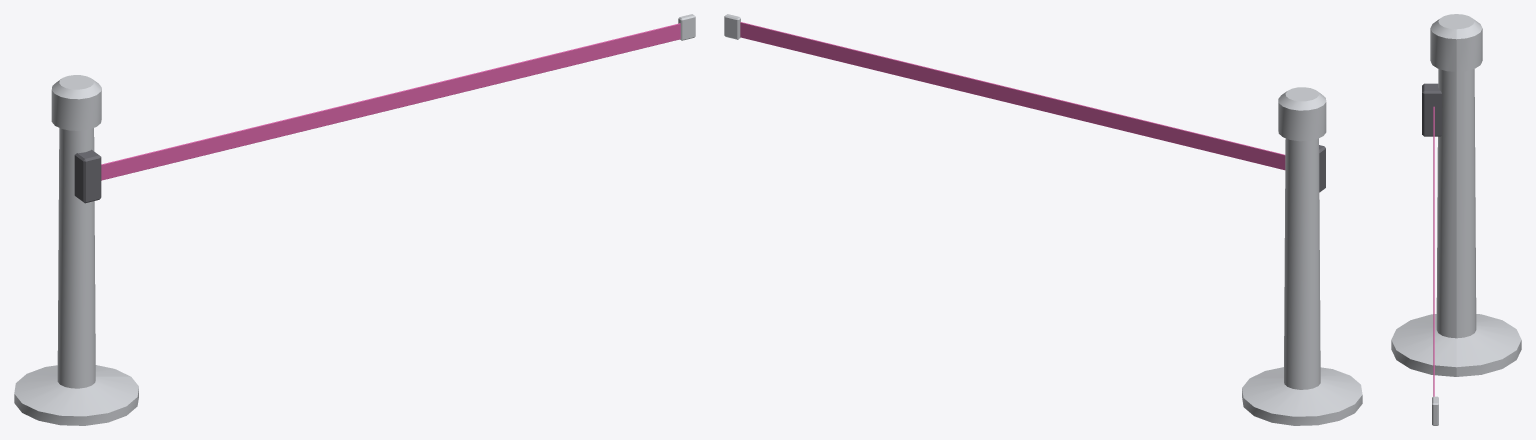
Rendered from nightclub-and-dj-booth-queue-barrier-post-35e813c3__34131.glb.
3 renders of one model, left to right at view 1: azimuth 30°, elevation 25°; view 2: azimuth 150°, elevation 25°; view 3: azimuth 270°, elevation 25°, orthographic. The views are drawn at different scales.
Parts seen in each view (by area): view 1: queue-barrier-post; view 2: queue-barrier-post; view 3: queue-barrier-post.
Part boxes in pixels (left/top/right/bottom): queue-barrier-post: left=14, top=14, right=695, bottom=425; queue-barrier-post: left=724, top=14, right=1362, bottom=425; queue-barrier-post: left=1391, top=14, right=1521, bottom=425.
Size of the model in its own units: 2.19 by 1 by 0.3601.
